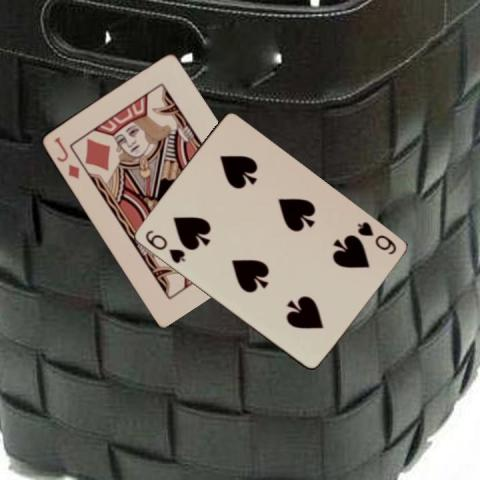6s: (141, 227, 187, 265), (353, 218, 398, 256)
Jd: (50, 133, 81, 180)
